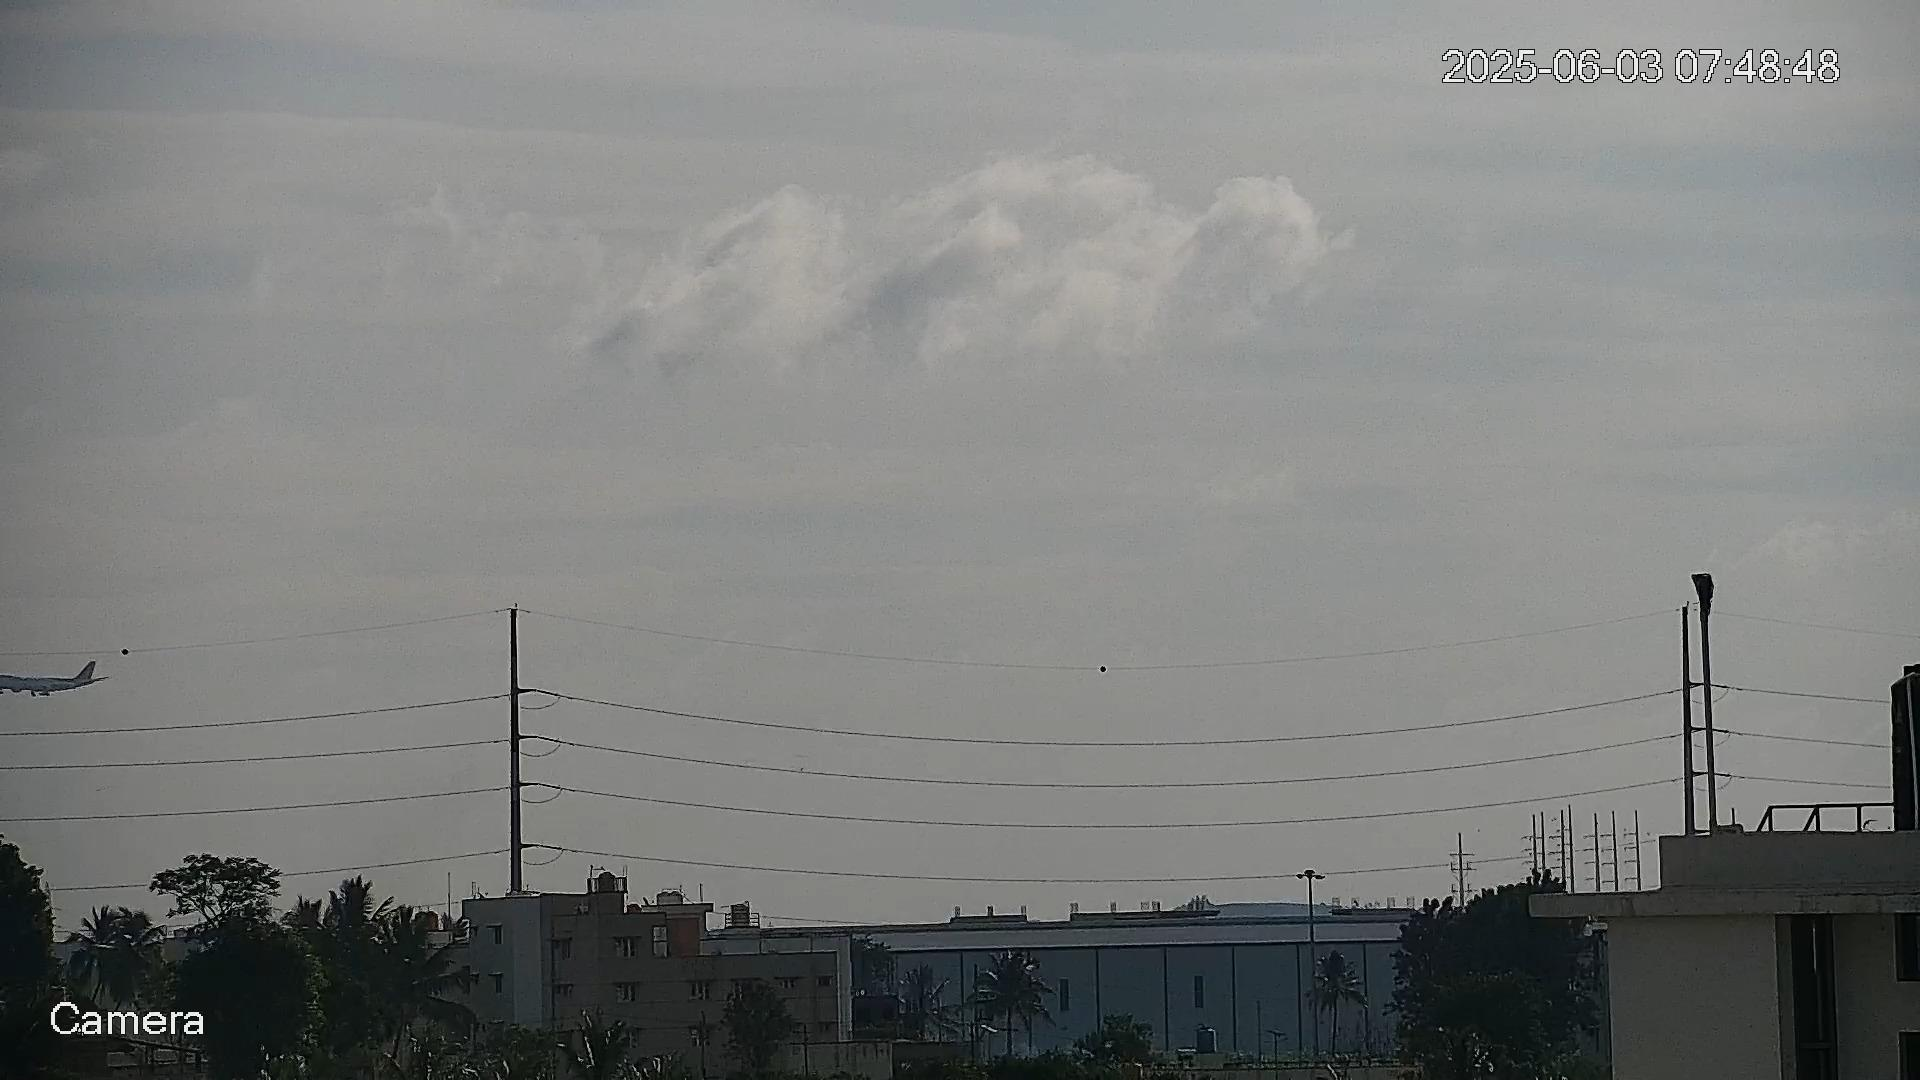Aircraft: (0, 661, 104, 698)
